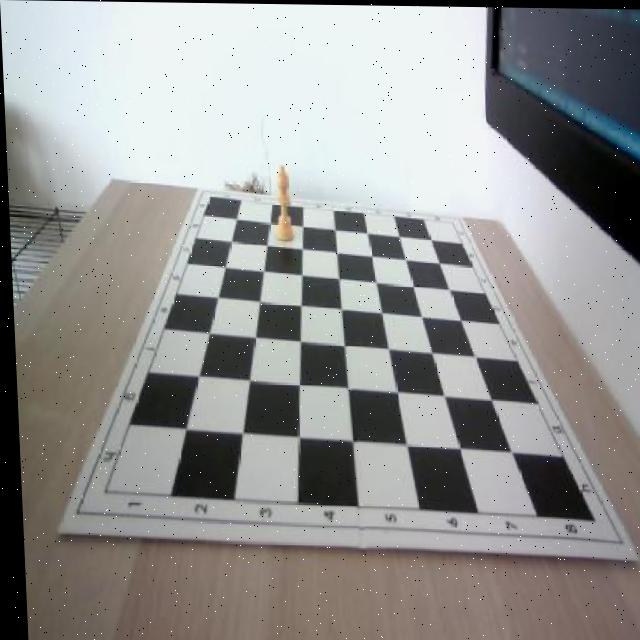black-rook: (270, 162, 294, 241)
